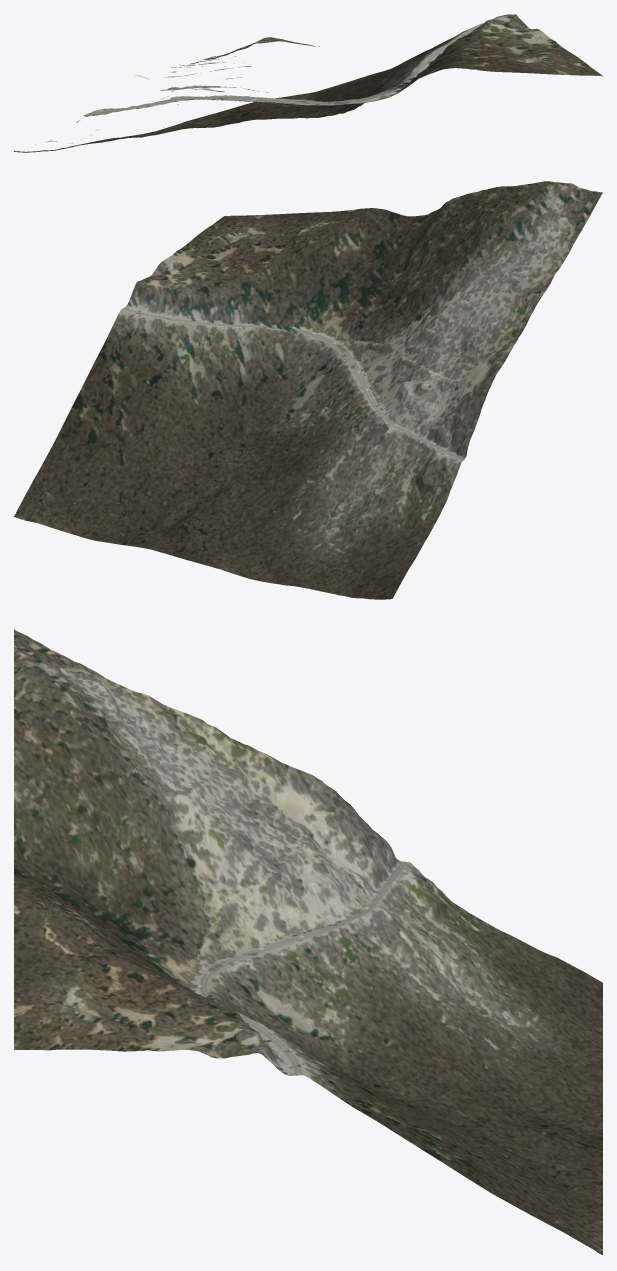
The picture shows the model from 3 angles, top to bottom: view 1: azimuth 30°, elevation 25°; view 2: azimuth 150°, elevation 25°; view 3: azimuth 270°, elevation 25°; orthographic projection. The views are drawn at different scales.
Size of the model in its own units: 500 by 340 by 481.
Materials: 1 (1 with a texture image).
